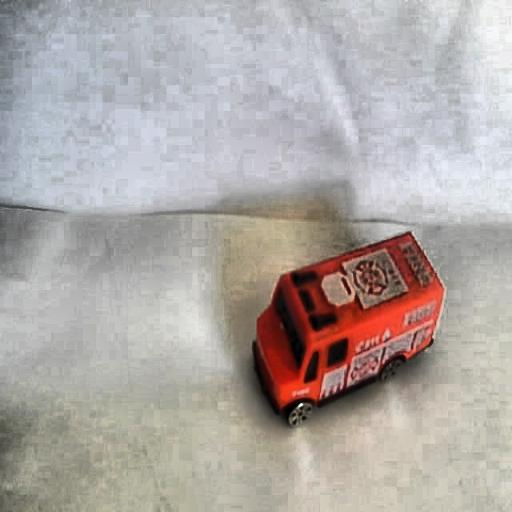fire_truck: (237, 226, 448, 436), (255, 306, 300, 400)
